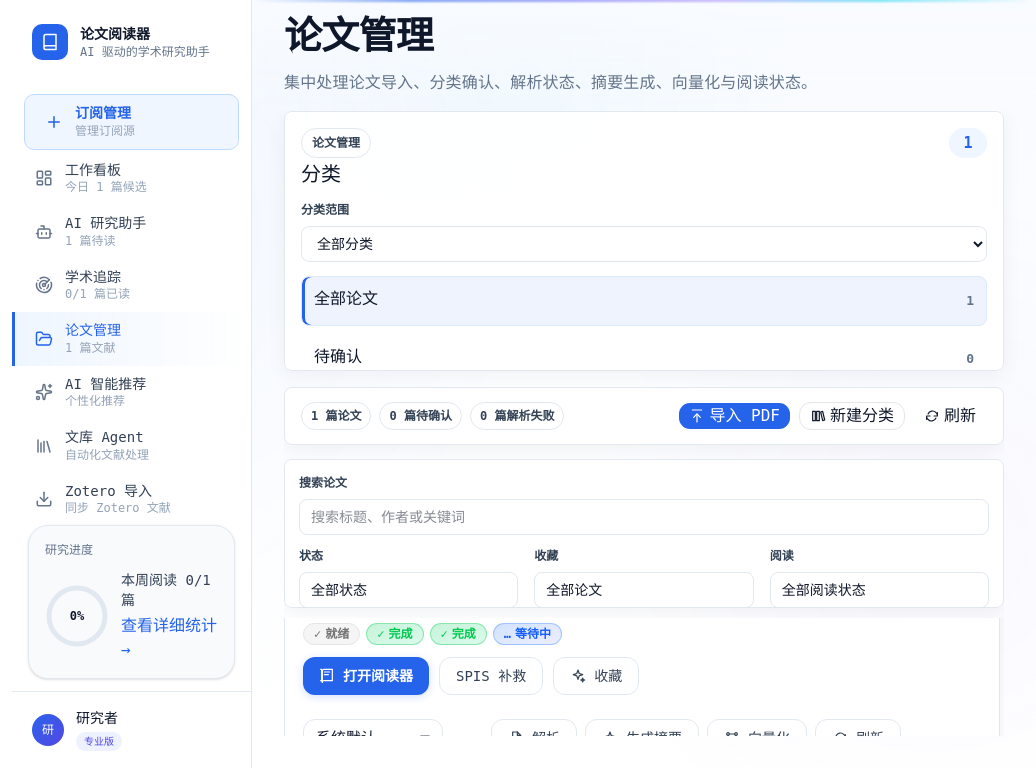
Test: opens the dedicated reader route from library detail
The image size is (1036, 768).
(page scrolled)
Click the button "打开阅读器". click: (366, 676)
box: x1=303 y1=657 x2=429 y2=695
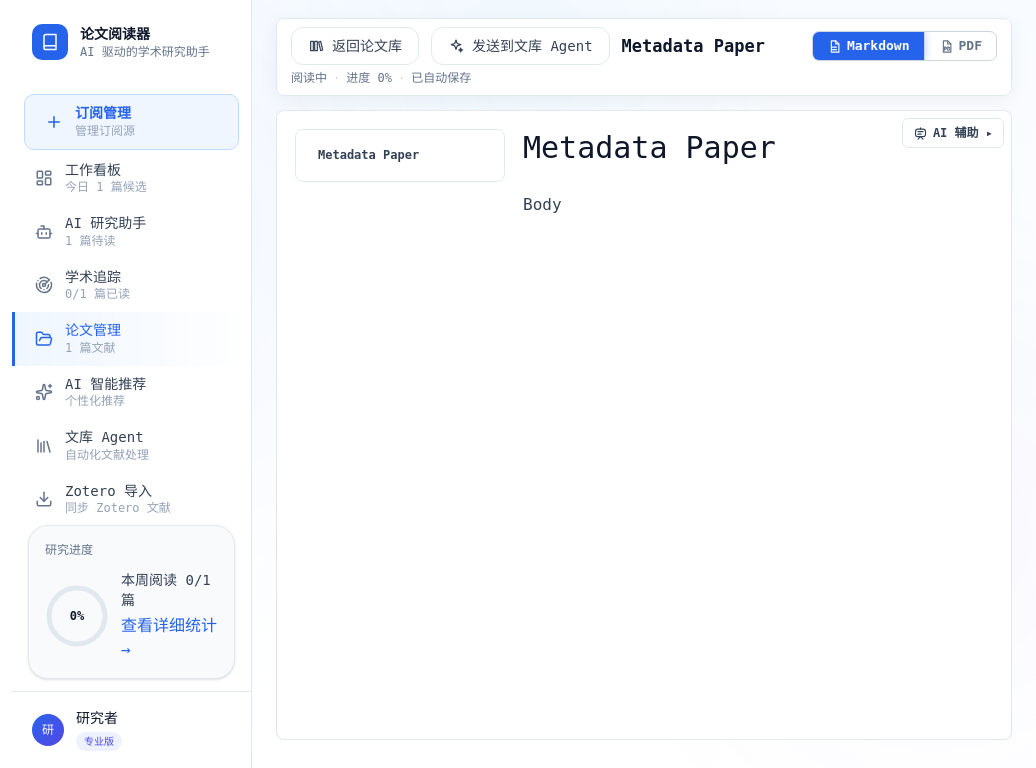
Result: the button "返回论文库" is shown at x1=291 y1=27 x2=419 y2=65
